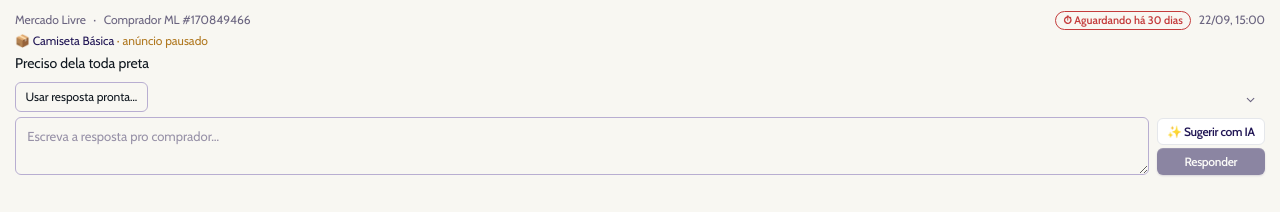
Test: ConversasMarketplace › IA sem a informação: não preenche nada, avisa e mostra a etiqueta Humano
The image size is (1280, 212).
Click the button with test id "mkt-pergunta-ia" at (1211, 132), box 1156,118 -> 1265,145
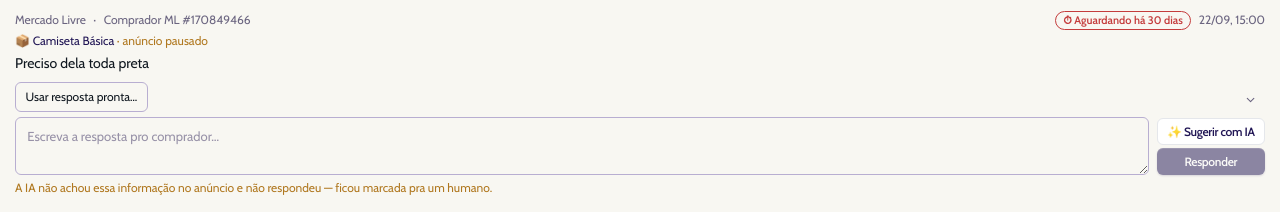
Expected: the text box with test id "mkt-pergunta-texto" is empty, 15,118 -> 1149,175
Expected: the text with test id "mkt-pergunta-aviso" shows "humano", 15,180 -> 492,196
